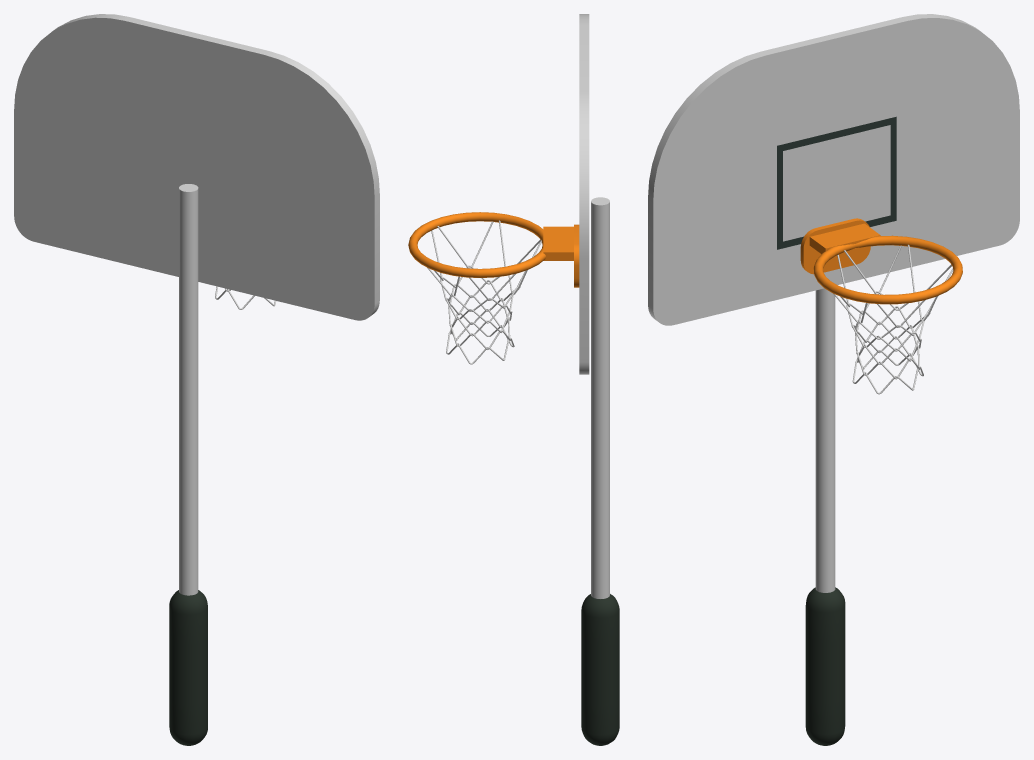
The model's file is Basket.fbx.
3 renders of one model, left to right at view 1: azimuth 30°, elevation 25°; view 2: azimuth 150°, elevation 25°; view 3: azimuth 270°, elevation 25°, orthographic. The views are drawn at different scales.
Parts seen in each view (by area): view 1: Basket; view 2: Basket; view 3: Basket.
Boxes of the visible parts, x1,y1,x2,y2 form: Basket: (14, 14, 379, 745); Basket: (408, 14, 619, 745); Basket: (648, 14, 1019, 745).
Size of the model in its own units: 83.94 by 237 by 112.
